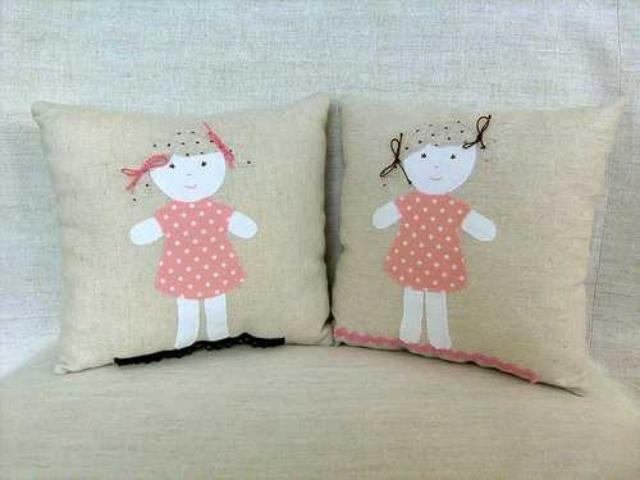pillow: (330, 95, 624, 395), (29, 91, 331, 375)
